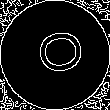O_W: (26, 30, 84, 80)
